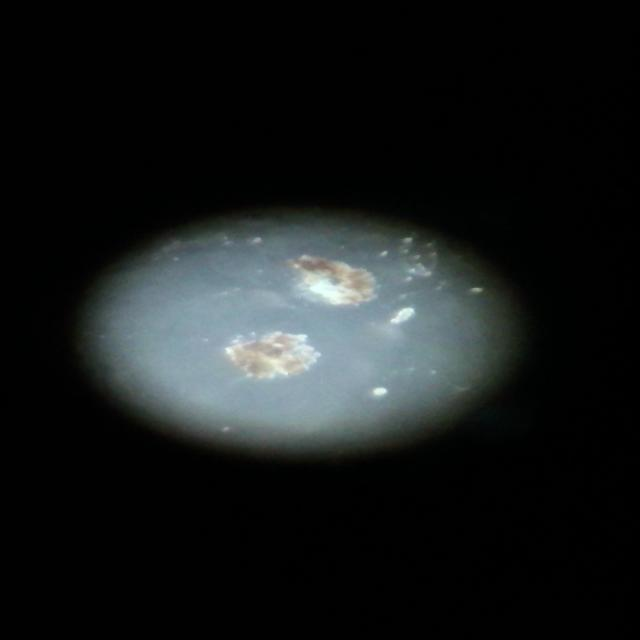alexandrium: (278, 251, 382, 311), (224, 332, 319, 380)
